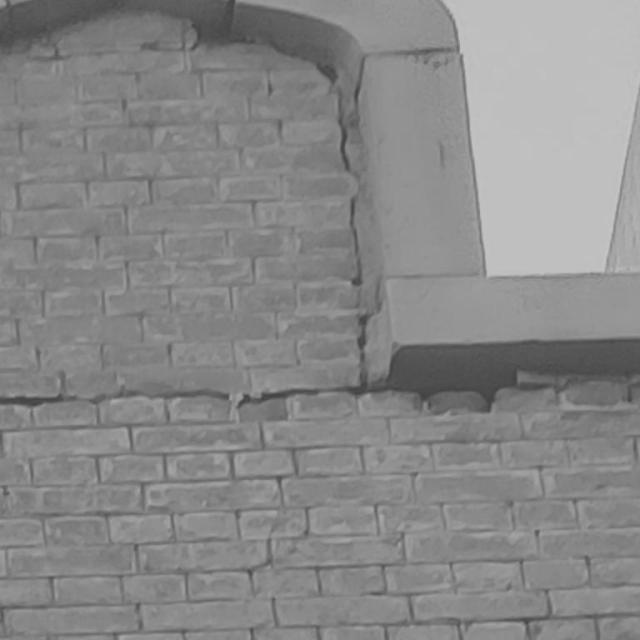crack: (1, 26, 517, 414)
